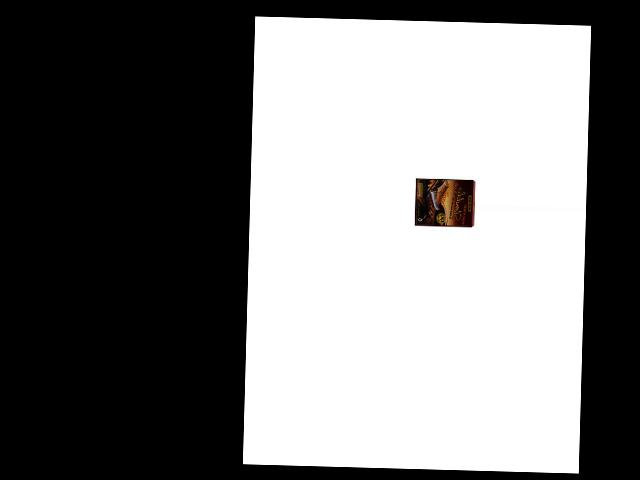chocolate: (414, 178, 475, 227)
